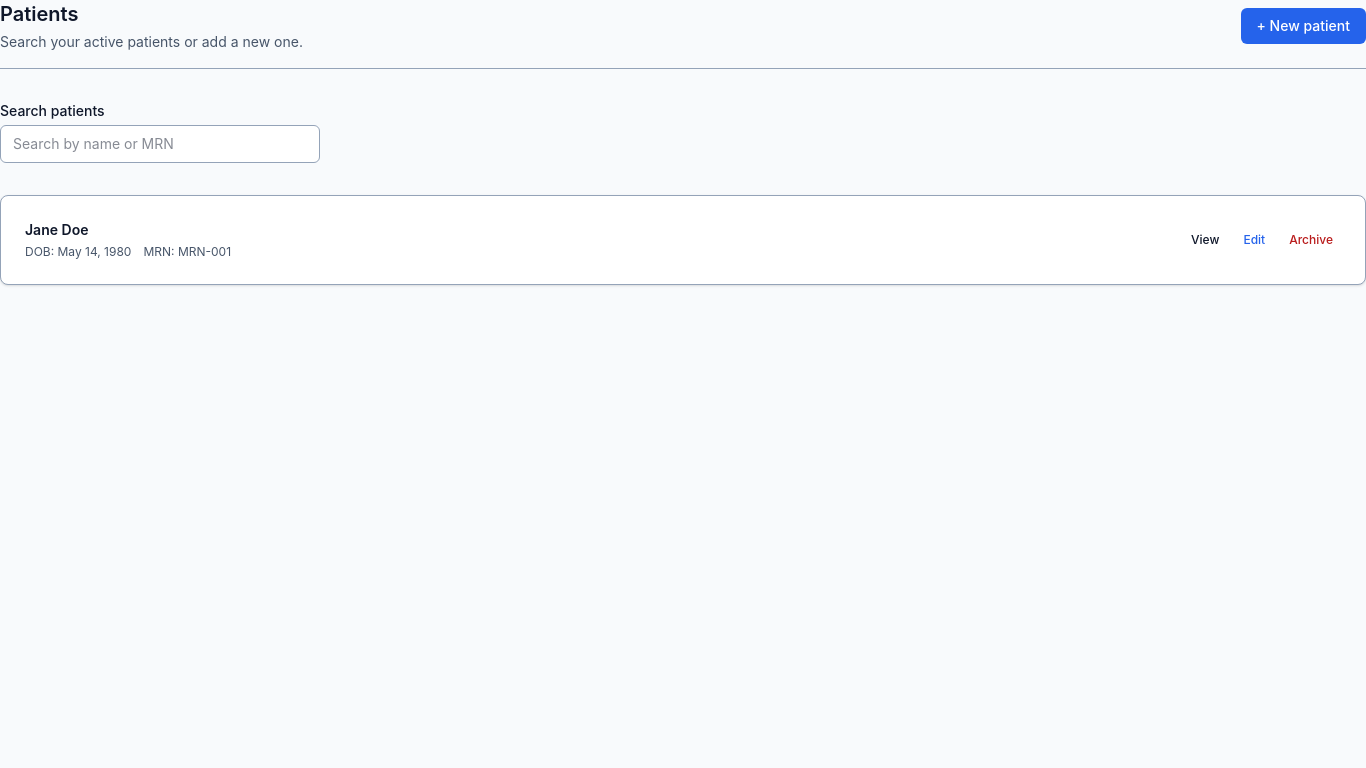
Test: PatientsPage › opens an archive confirmation dialog naming the patient
expect the link "Jane Doe" is shown: met, box [25,221,88,238]
Click the button with aria-label "Archive Jane Doe".
click(1311, 240)  # box [1281,228,1341,252]
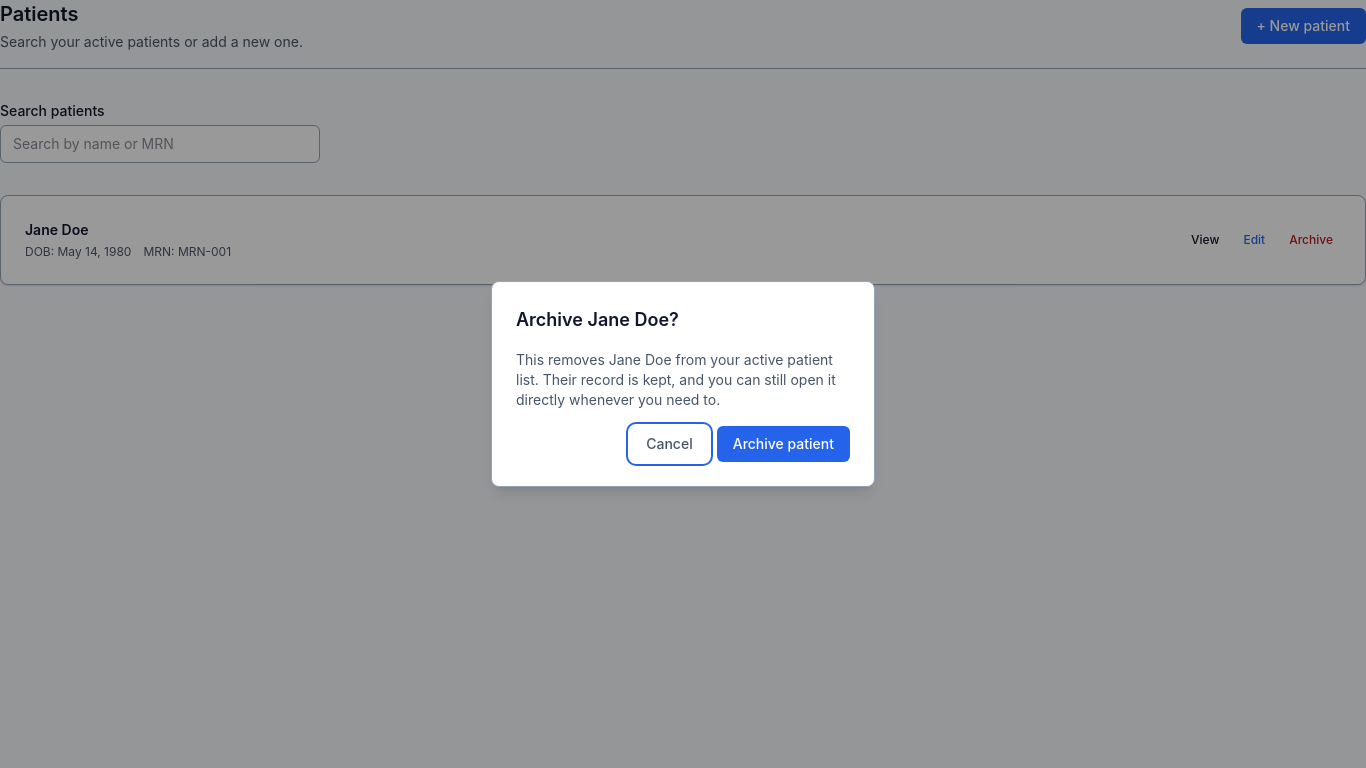
expect the heading "Archive Jane Doe?" is shown: met, box [516,309,679,330]
